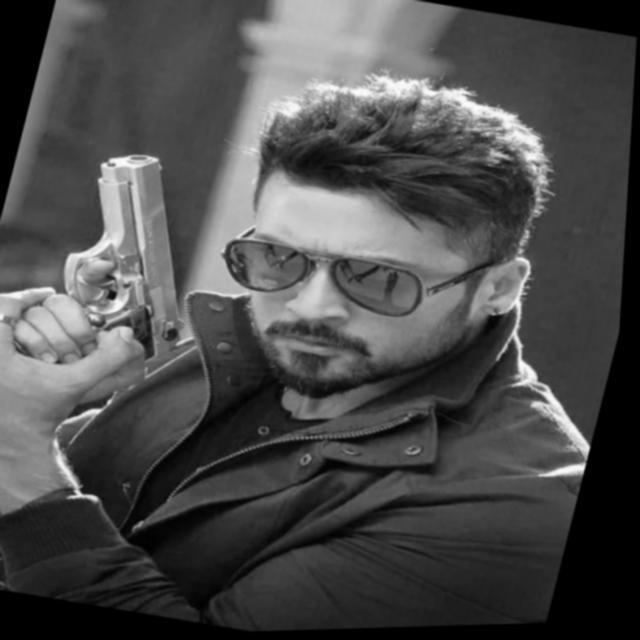weapon: (0, 127, 241, 426)
